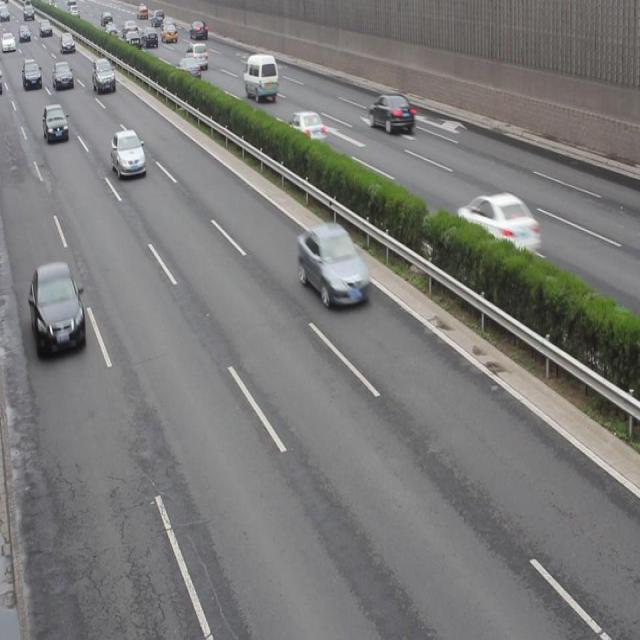car: (297, 219, 370, 308), (457, 190, 540, 262), (28, 259, 85, 360), (367, 90, 416, 138), (110, 127, 145, 179), (283, 110, 326, 150), (42, 102, 69, 143)
truck: (243, 52, 278, 104)
